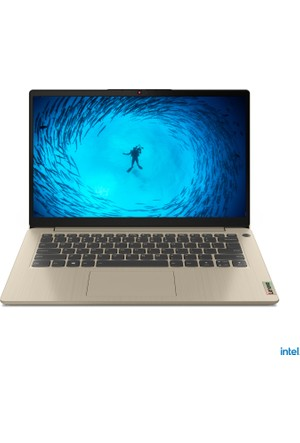laptop: (2, 89, 282, 307)
